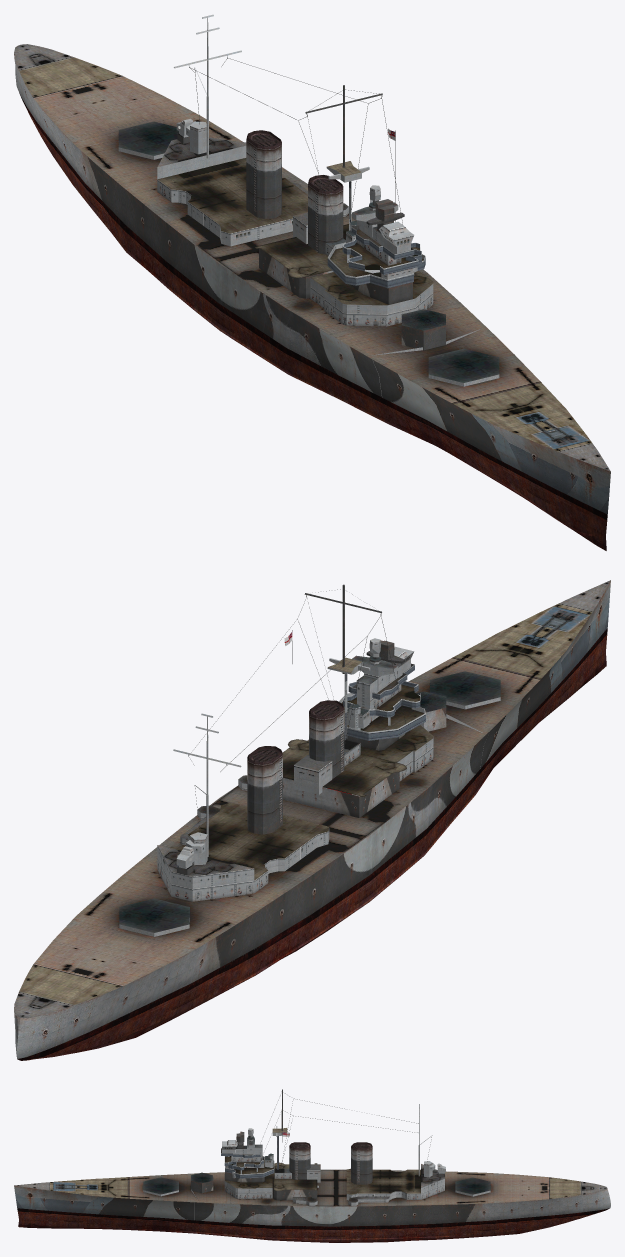
Rendered from Ship_0.FBX.
3 renders of one model, top to bottom at view 1: azimuth 30°, elevation 25°; view 2: azimuth 150°, elevation 25°; view 3: azimuth 270°, elevation 25°, orthographic. The views are drawn at different scales.
Parts seen in each view (by area): view 1: Ship_0; view 2: Ship_0; view 3: Ship_0.
Boxes of the visible parts, x1=… form: Ship_0: x1=14, y1=14, x2=610, y2=550; Ship_0: x1=14, y1=580, x2=610, y2=1060; Ship_0: x1=14, y1=1089, x2=610, y2=1242.
Size of the model in its own units: 25.54 by 44.69 by 174.
Materials: 1 (1 with a texture image).
